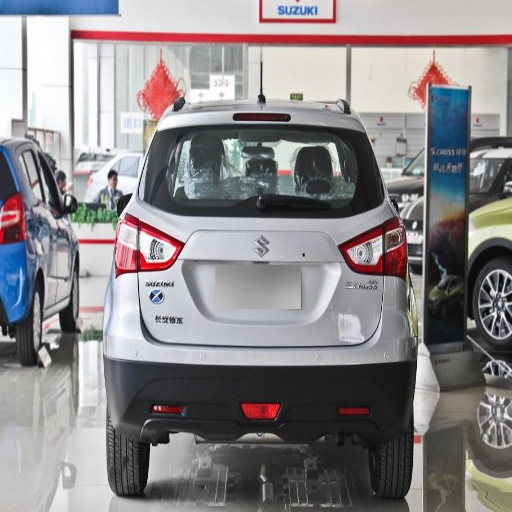back_bumper: (100, 275, 417, 450)
tailgate: (202, 280, 323, 326)
trunk: (126, 210, 384, 346)
